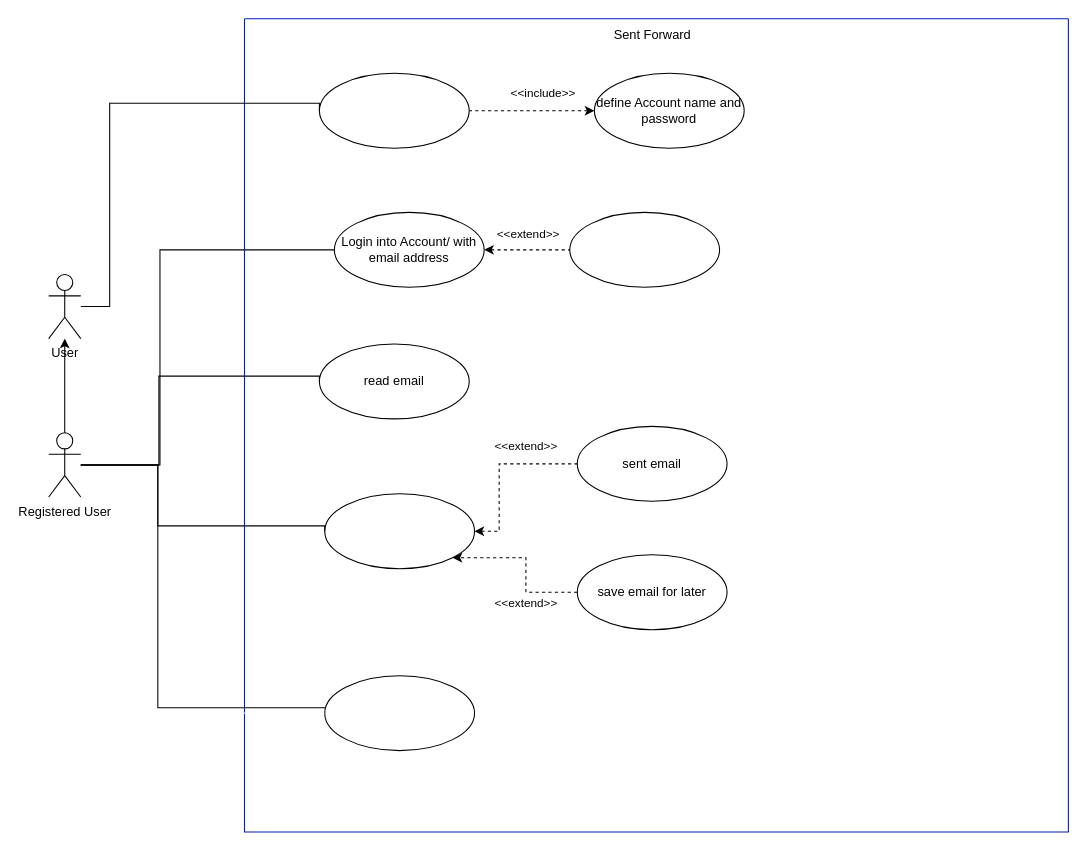
The diagram is 1087 pixels wide and 851 high, and some of its shapes have lost their labels. The shapes that lost their labels are listed below. From the top down, each one's centre as x and y in pixels, then its label:
At pixel 393 110: "create Account".
At pixel 644 249: "Login into account".
At pixel 399 531: "write Email".
At pixel 399 713: "manage calender".
